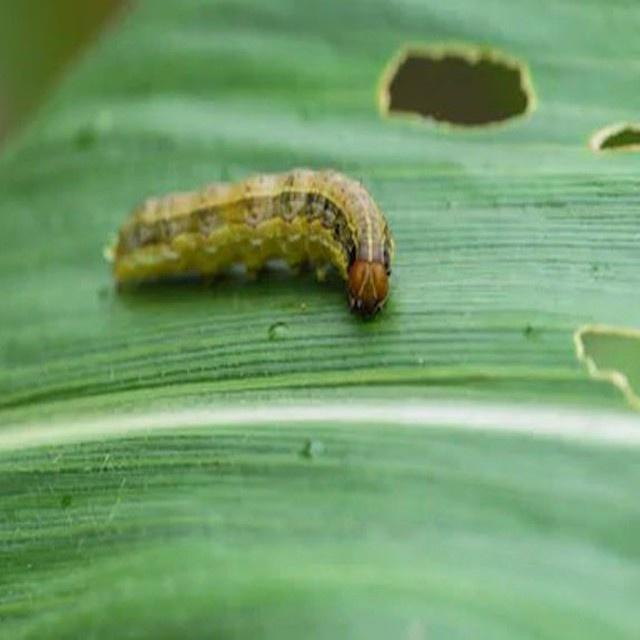gusano_cogollero: (104, 162, 399, 324)
